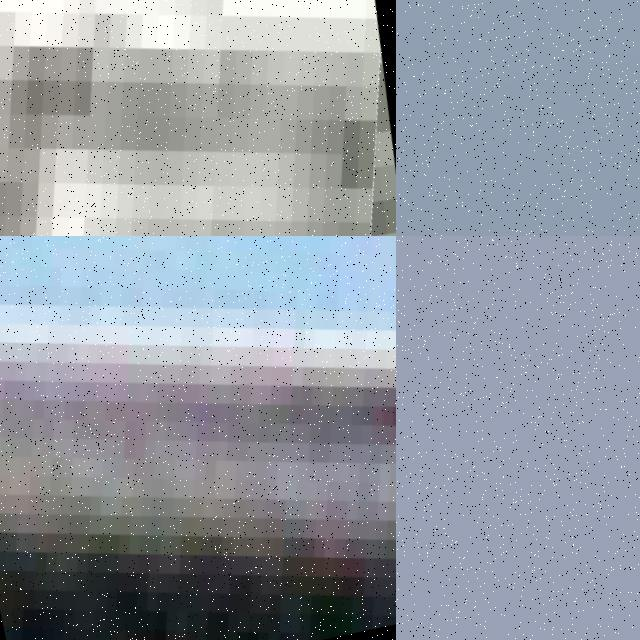drone: (0, 236, 396, 640), (0, 0, 396, 236)
